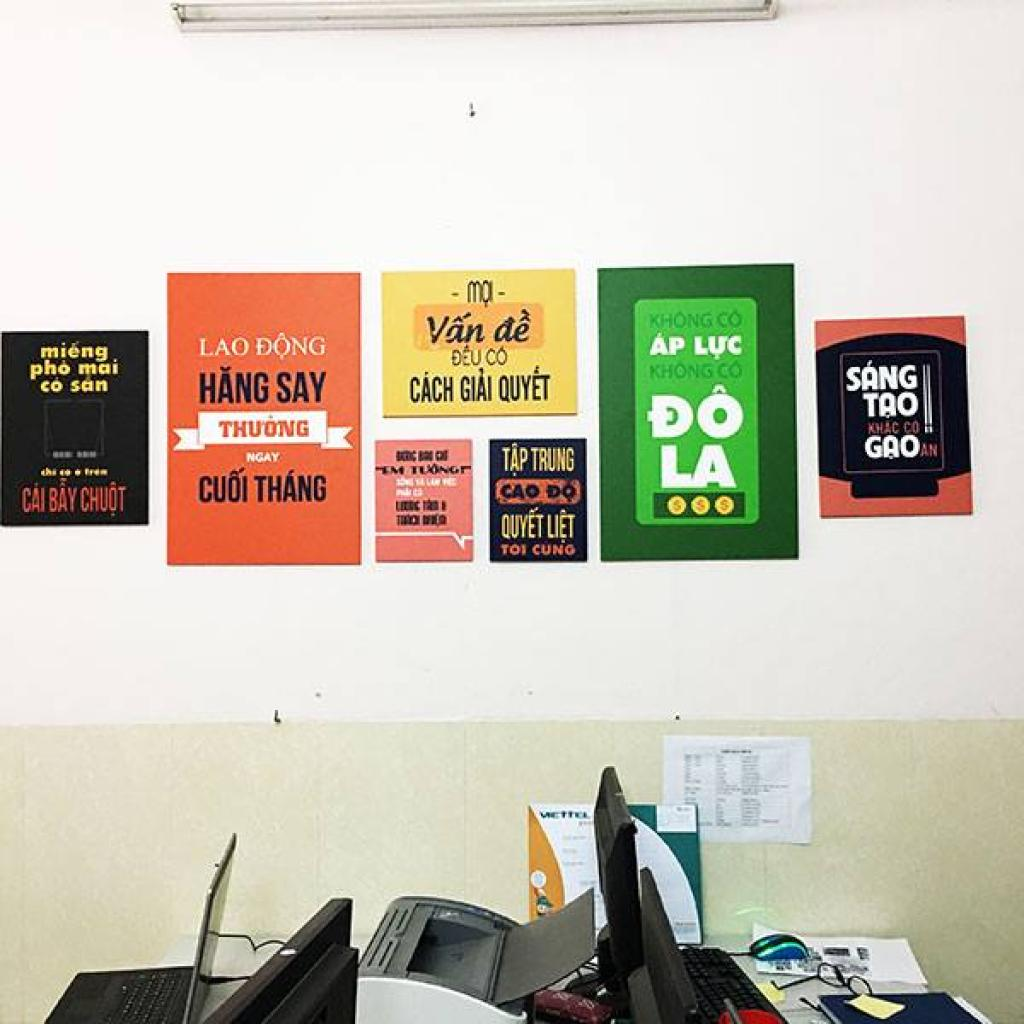text: (647, 382, 746, 442), (659, 444, 742, 492), (198, 364, 271, 406), (254, 468, 328, 505), (845, 360, 920, 393), (497, 365, 553, 405), (256, 331, 328, 362), (218, 414, 310, 438), (427, 310, 488, 346), (198, 466, 249, 505), (80, 480, 128, 520), (274, 370, 328, 404), (41, 340, 109, 364), (862, 392, 920, 420), (410, 370, 456, 404), (493, 307, 534, 345), (864, 435, 923, 461), (502, 507, 546, 541), (695, 334, 744, 362), (459, 367, 495, 404), (531, 447, 577, 475), (650, 310, 714, 330), (198, 334, 251, 358), (546, 508, 579, 544), (650, 362, 714, 380), (48, 476, 78, 514), (647, 331, 688, 357), (502, 442, 529, 480), (466, 278, 498, 309), (31, 360, 73, 382), (20, 483, 48, 514), (449, 344, 485, 368), (70, 374, 111, 394), (78, 358, 120, 376), (500, 483, 543, 500), (546, 482, 579, 504), (531, 543, 577, 556), (485, 345, 510, 367), (867, 421, 901, 437), (719, 362, 744, 382), (717, 309, 742, 329), (246, 452, 283, 464), (41, 376, 65, 394), (500, 543, 529, 556), (922, 442, 940, 459), (904, 420, 922, 435)
